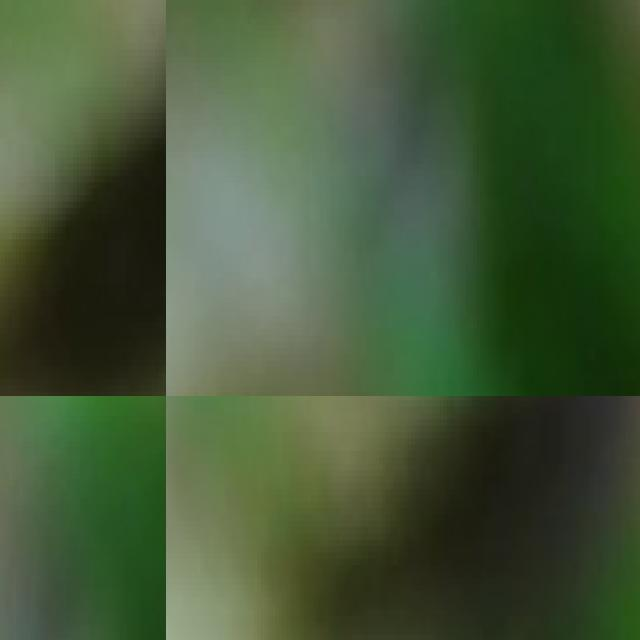fish: (0, 0, 166, 396)
